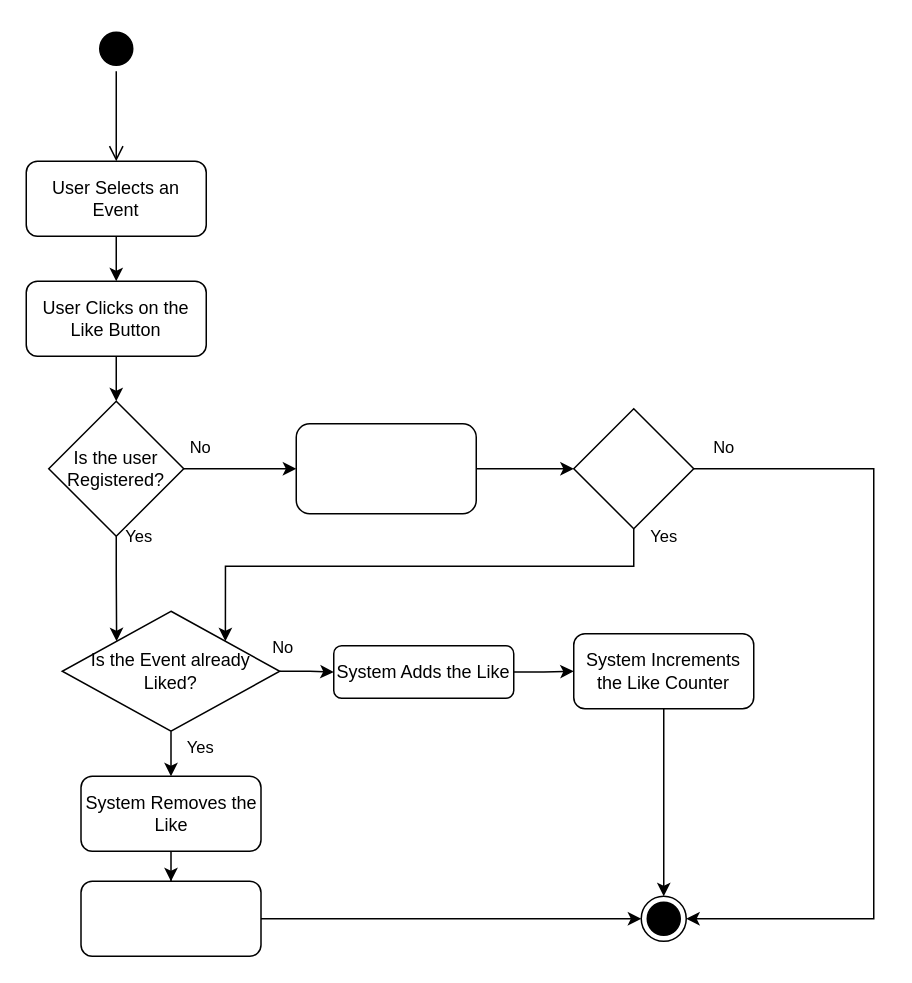
The diagram is 912 pixels wide and 983 high, and some of its shapes have lost their labels. The centre of each missing label's shape, as x and y in pixels:
"Ask User to Sign In with a pop-up Message" belongs at point (385, 468).
"Did User Sign In?" belongs at point (633, 468).
"System Decrements the Like Counter" belongs at point (170, 918).
